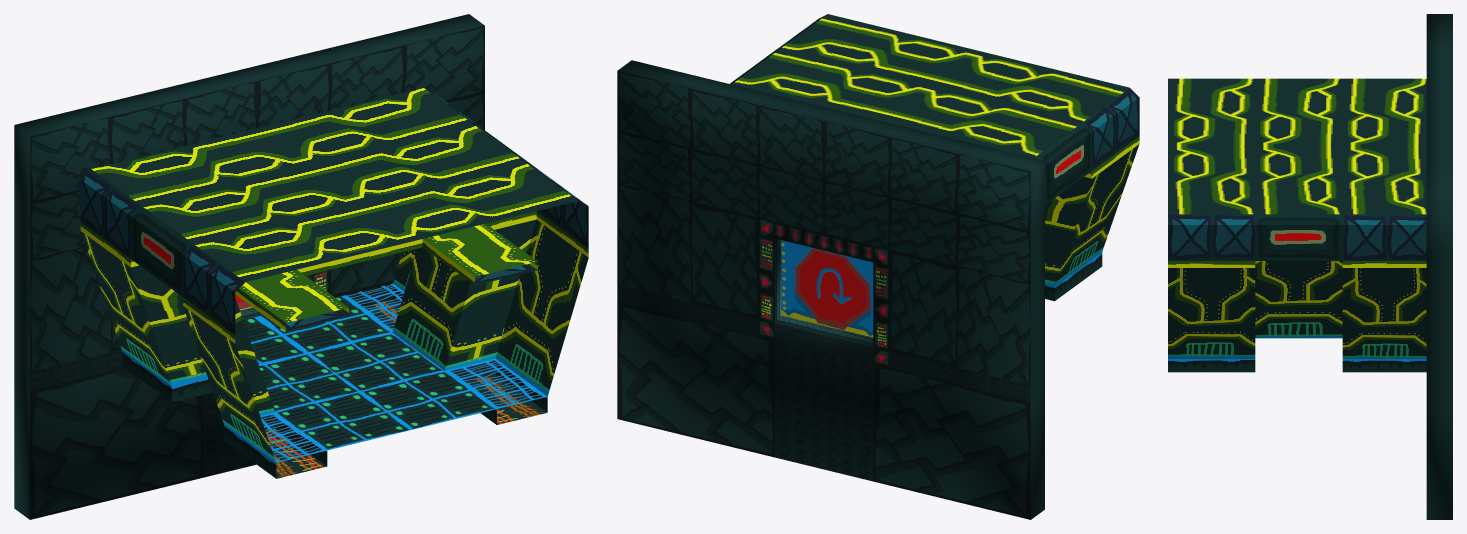
File: Corridor.fbx
The picture shows the model from 3 angles, left to right: view 1: azimuth 30°, elevation 25°; view 2: azimuth 150°, elevation 25°; view 3: azimuth 270°, elevation 25°; orthographic projection. The views are drawn at different scales.
Parts seen in each view (by area): view 1: Corridor, Doorway, CorridorTransparencies; view 2: Doorway, Corridor, Door; view 3: Corridor, Doorway.
Part boxes in pixels (x1,y1,x2,y2): Corridor: (80, 88, 588, 478); Doorway: (14, 14, 484, 519); CorridorTransparencies: (260, 283, 547, 462); Doorway: (617, 60, 1044, 519); Corridor: (730, 14, 1139, 301); Door: (781, 240, 873, 337); Corridor: (1168, 78, 1426, 372); Doorway: (1426, 14, 1452, 519).
Bounding box in the file's own units: 1108 × 893 × 719.
